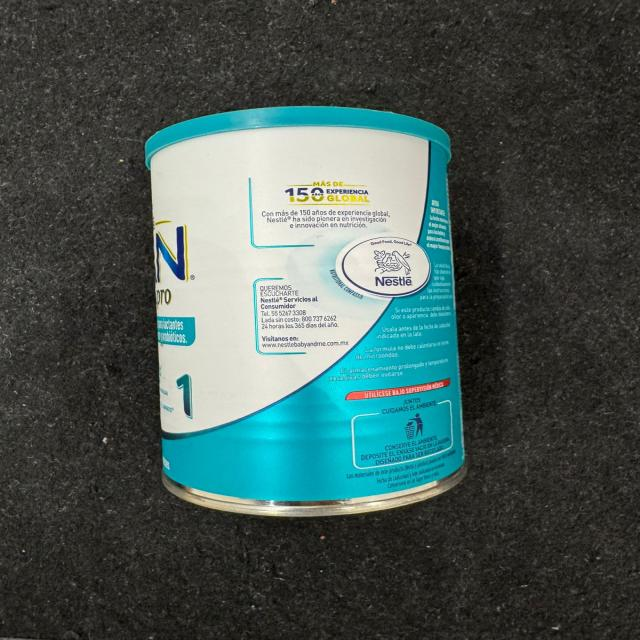NAN 1 OPTIPRO Formula Infantil 12x400gMX: (142, 105, 472, 520)
